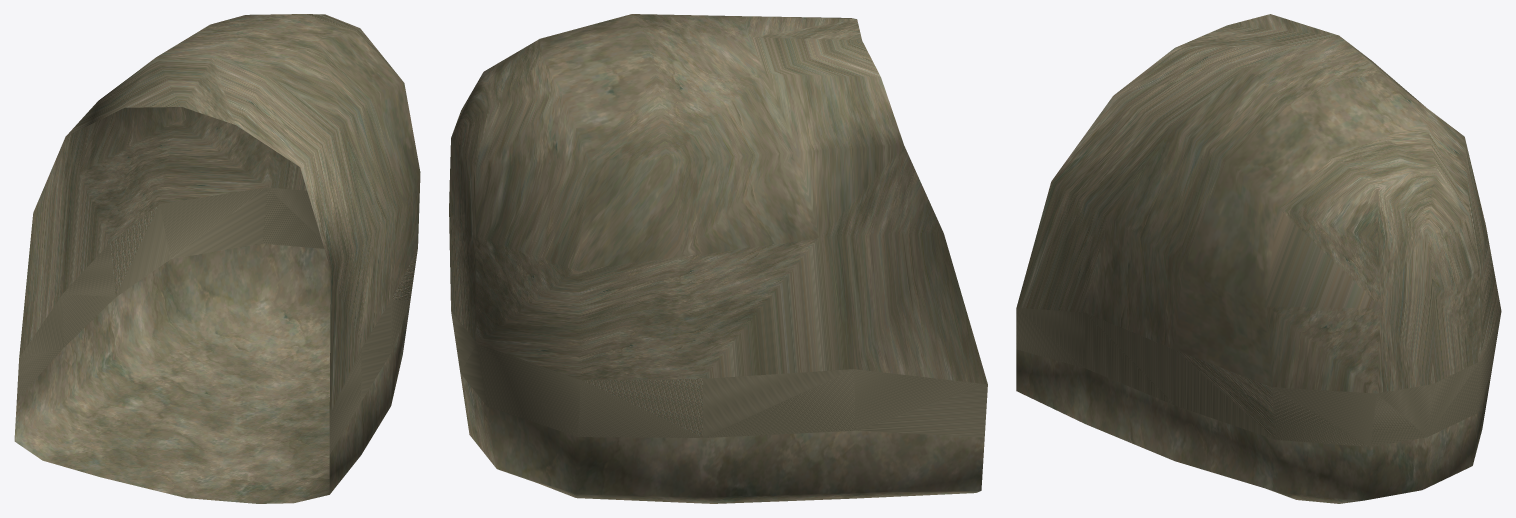
File: OVERHILL_A_01_WOLF_CAVE_01.fbx
The picture shows the model from 3 angles, left to right: view 1: azimuth 30°, elevation 25°; view 2: azimuth 150°, elevation 25°; view 3: azimuth 270°, elevation 25°; orthographic projection. The views are drawn at different scales.
Parts seen in each view (by area): view 1: OVERHILL_A_01_WOLF_CAVE_01; view 2: OVERHILL_A_01_WOLF_CAVE_01; view 3: OVERHILL_A_01_WOLF_CAVE_01.
Boxes of the visible parts, left/top/right/bottom form: OVERHILL_A_01_WOLF_CAVE_01: left=14, top=14, right=420, bottom=503; OVERHILL_A_01_WOLF_CAVE_01: left=449, top=14, right=987, bottom=503; OVERHILL_A_01_WOLF_CAVE_01: left=1016, top=14, right=1501, bottom=503.
Size of the model in its own units: 33430 by 28668 by 33002.
Materials: 1 (1 with a texture image).
